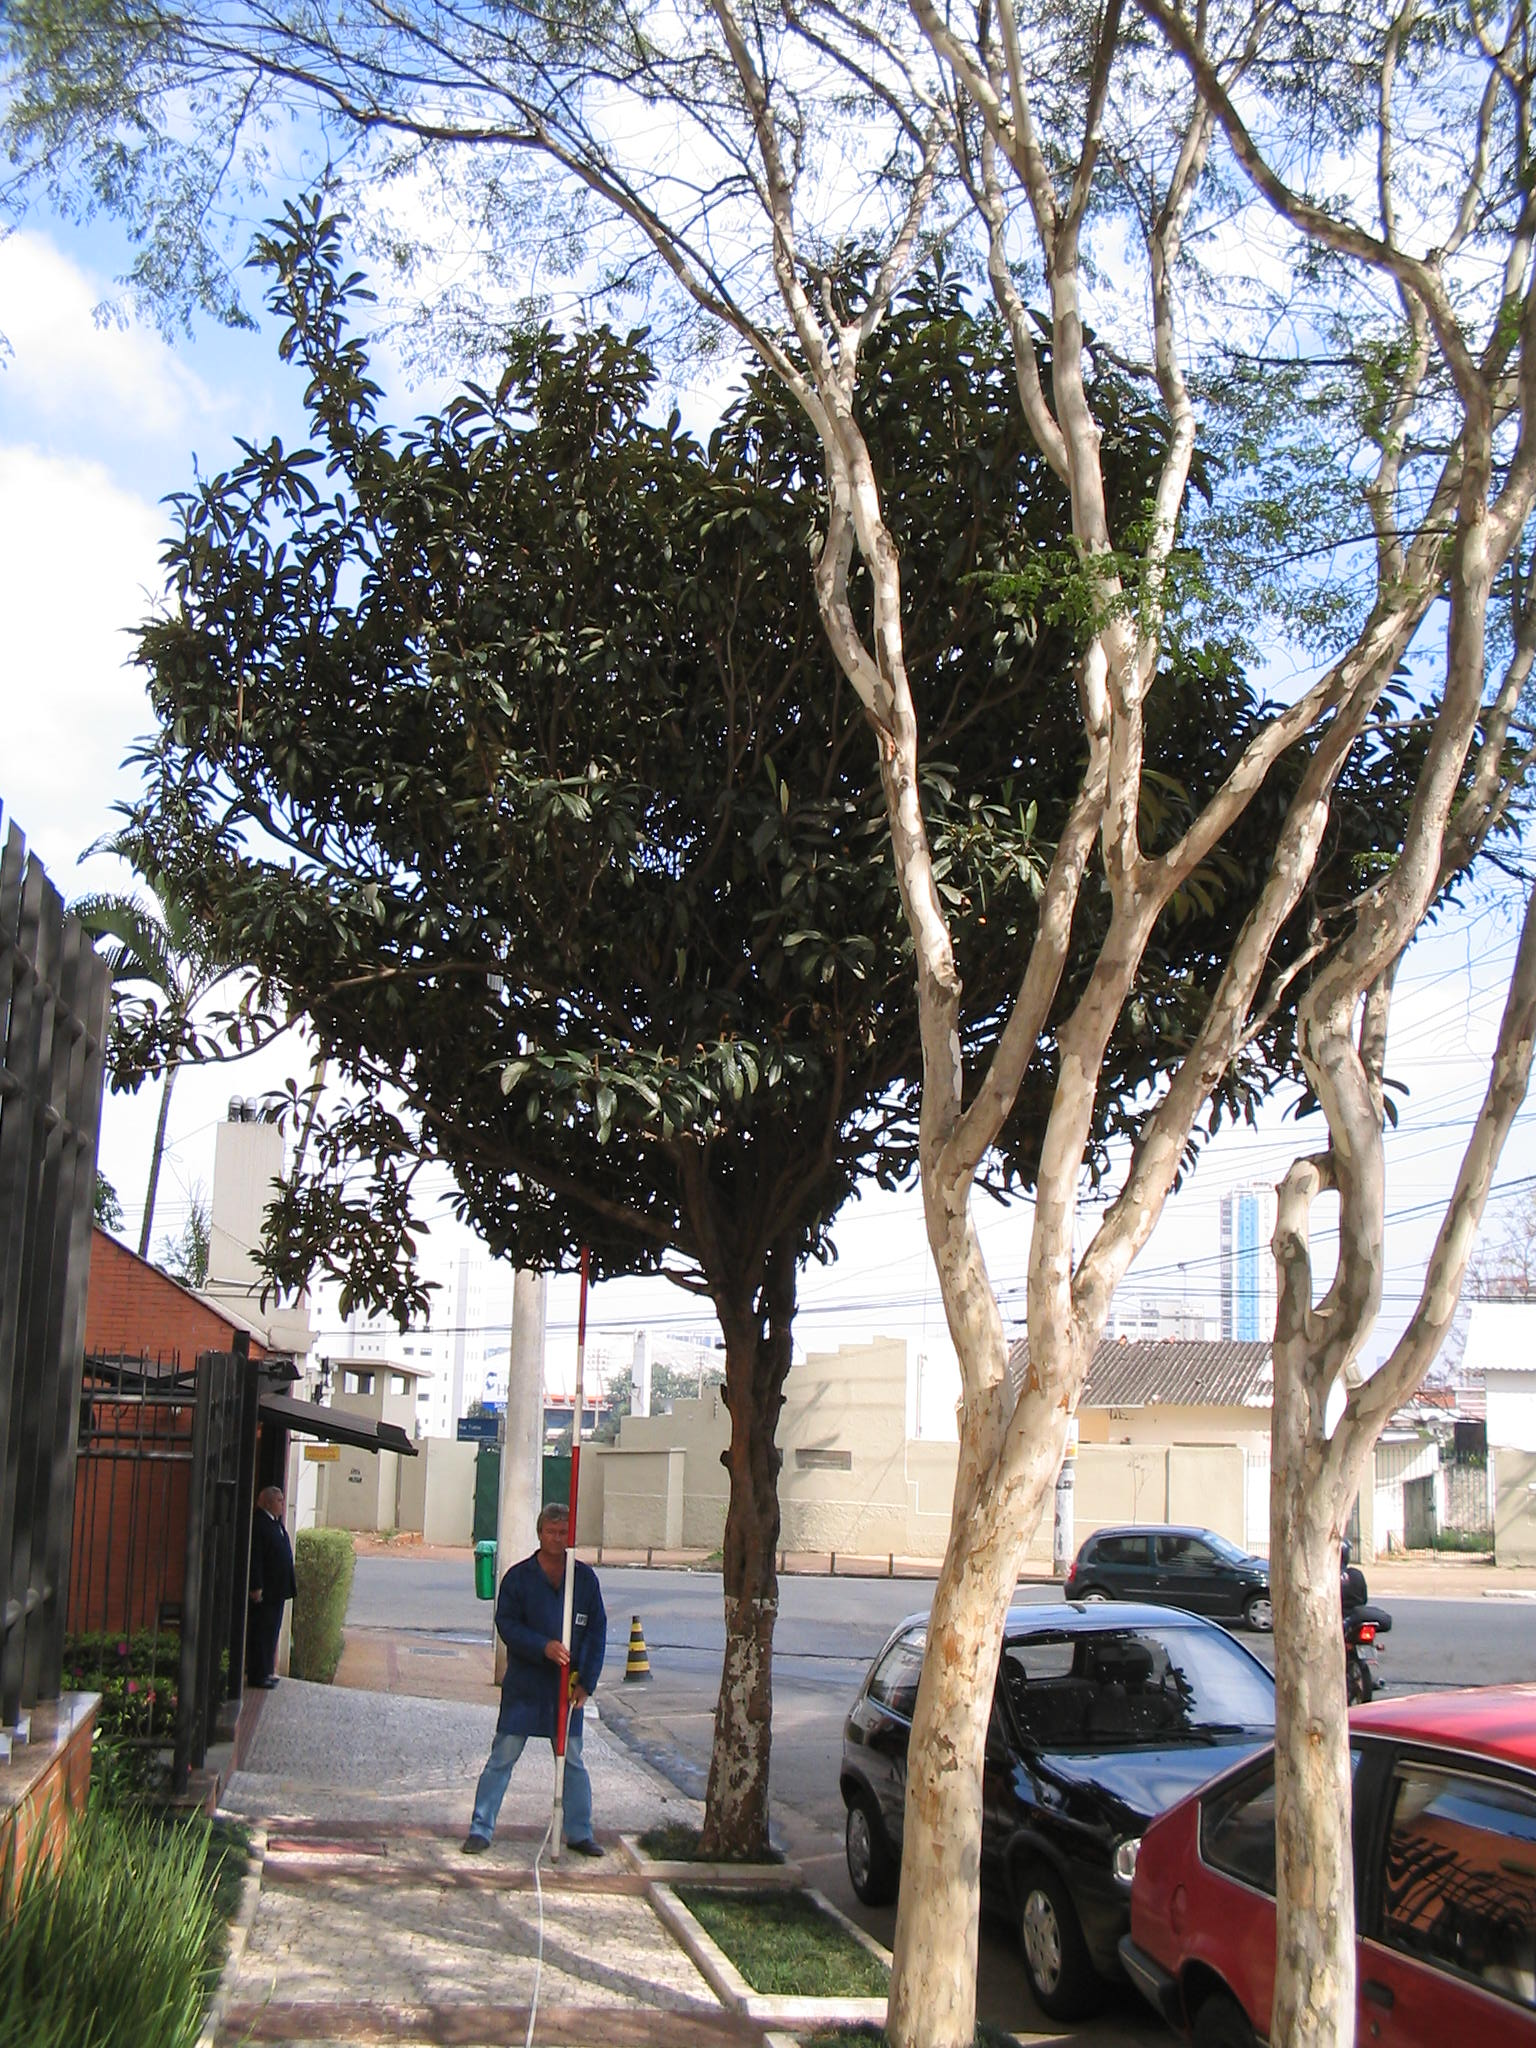crown: (97, 195, 1517, 1300)
stem: (1178, 1467, 1462, 2045), (828, 1466, 1092, 2048), (660, 1526, 845, 1861)
stick: (528, 1250, 623, 1864)
tree: (94, 187, 1523, 1866)
